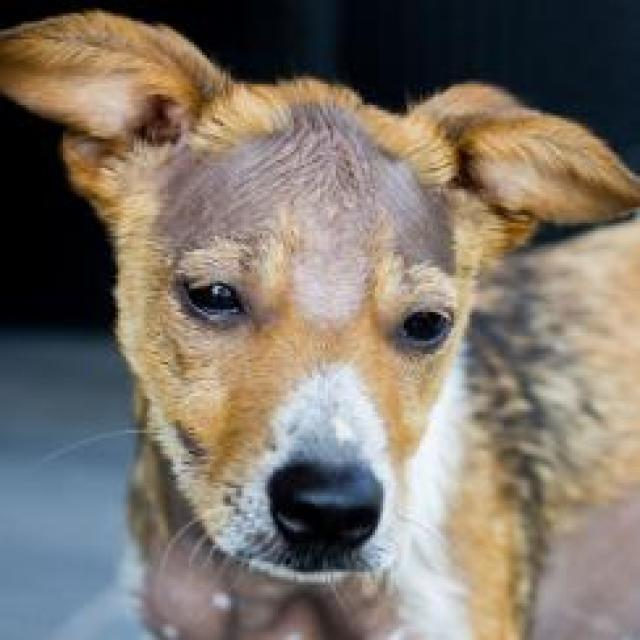allergic dermatitis: (162, 126, 456, 266), (286, 241, 362, 334)
